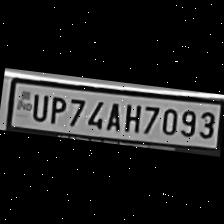0: (156, 104, 179, 136)
3: (194, 106, 216, 139)
4: (82, 96, 106, 128)
7: (63, 92, 85, 126), (138, 101, 159, 134)
9: (176, 105, 198, 138)
A: (102, 97, 124, 130)
H: (119, 98, 142, 132)
P: (43, 92, 66, 124)
U: (25, 89, 50, 121)
